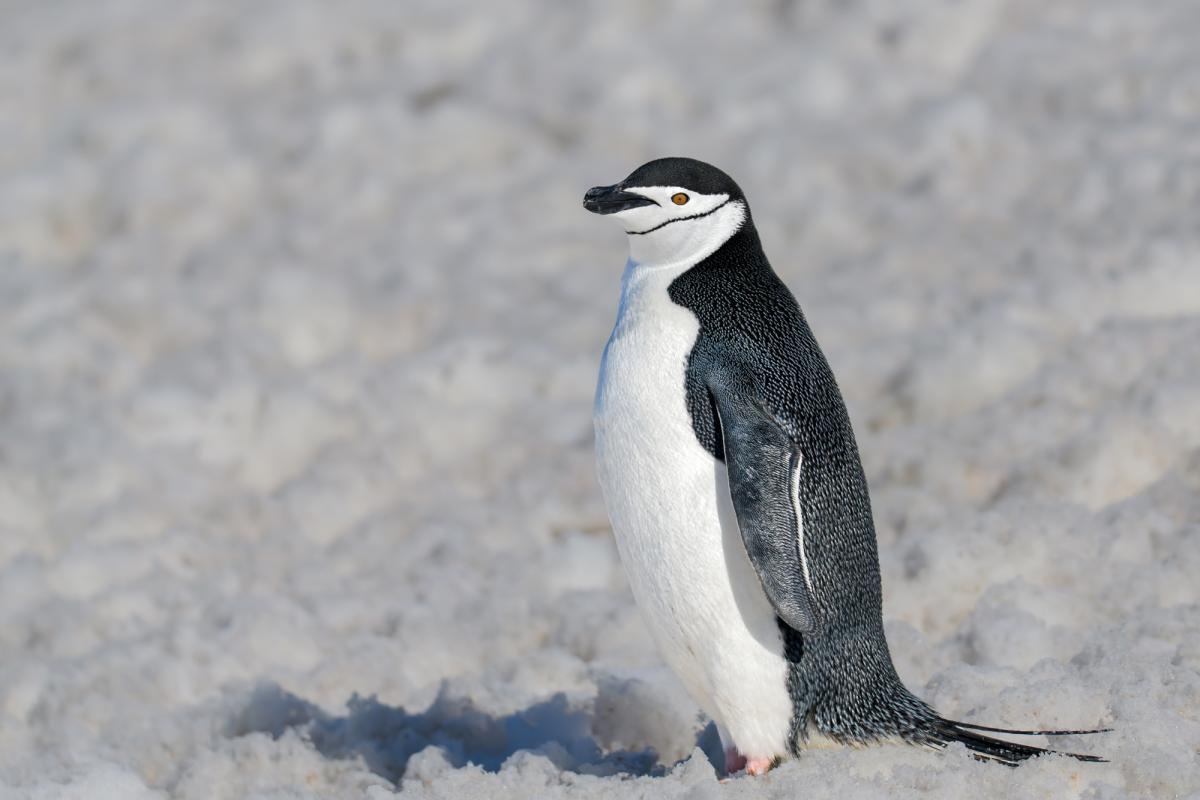chinstrap: (549, 132, 1089, 800)
